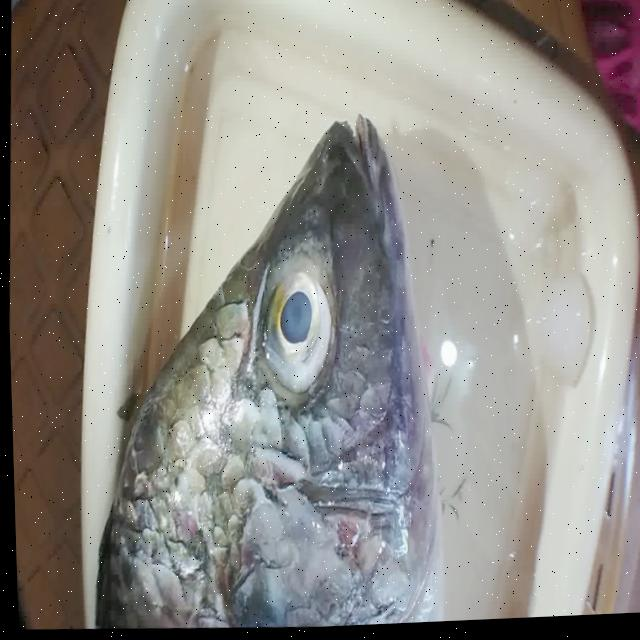Fresh: (244, 241, 340, 435)
